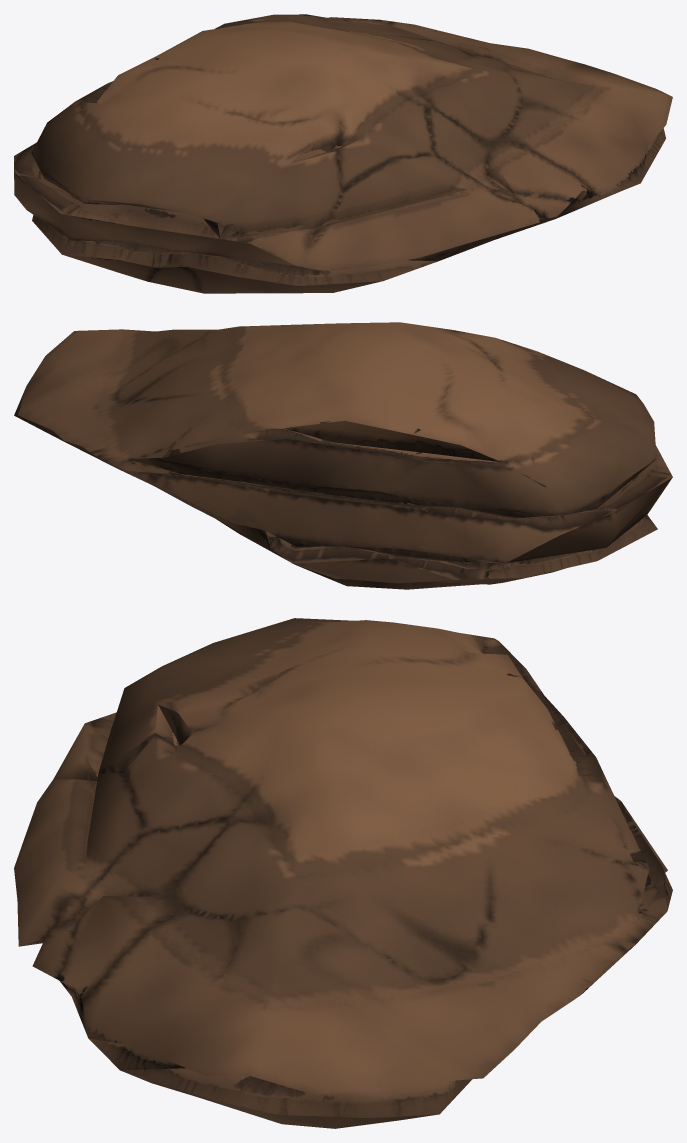
The model's file is Roca_Losa.fbx.
The picture shows the model from 3 angles, top to bottom: view 1: azimuth 30°, elevation 25°; view 2: azimuth 150°, elevation 25°; view 3: azimuth 270°, elevation 25°; orthographic projection. The views are drawn at different scales.
Visible parts, largest first — view 1: Roca_Losa; view 2: Roca_Losa; view 3: Roca_Losa.
Part boxes in pixels (left/top/right/bottom): Roca_Losa: left=14, top=14, right=672, bottom=293; Roca_Losa: left=14, top=322, right=672, bottom=589; Roca_Losa: left=14, top=618, right=672, bottom=1128.
Bounding box in the file's own units: 2.24 × 0.5893 × 1.49.
1 material, 1 textured.
